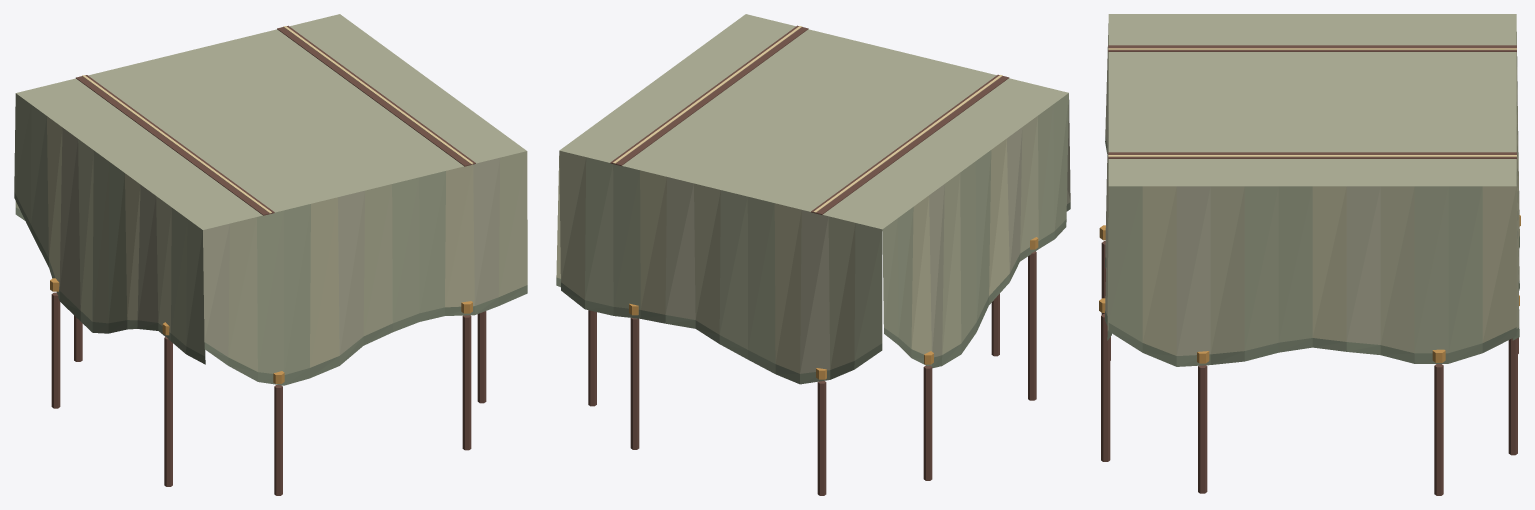
The model's file is LashedCover.glb.
The picture shows the model from 3 angles, left to right: view 1: azimuth 30°, elevation 25°; view 2: azimuth 150°, elevation 25°; view 3: azimuth 270°, elevation 25°; orthographic projection. The views are drawn at different scales.
Visible parts, largest first — view 1: LashedCover; view 2: LashedCover; view 3: LashedCover.
Boxes of the visible parts, bbox=[...] form: LashedCover: bbox=[14, 14, 527, 495]; LashedCover: bbox=[556, 14, 1070, 495]; LashedCover: bbox=[1099, 14, 1520, 495].
Bounding box in the file's own units: 1.55 × 1.23 × 1.53.
